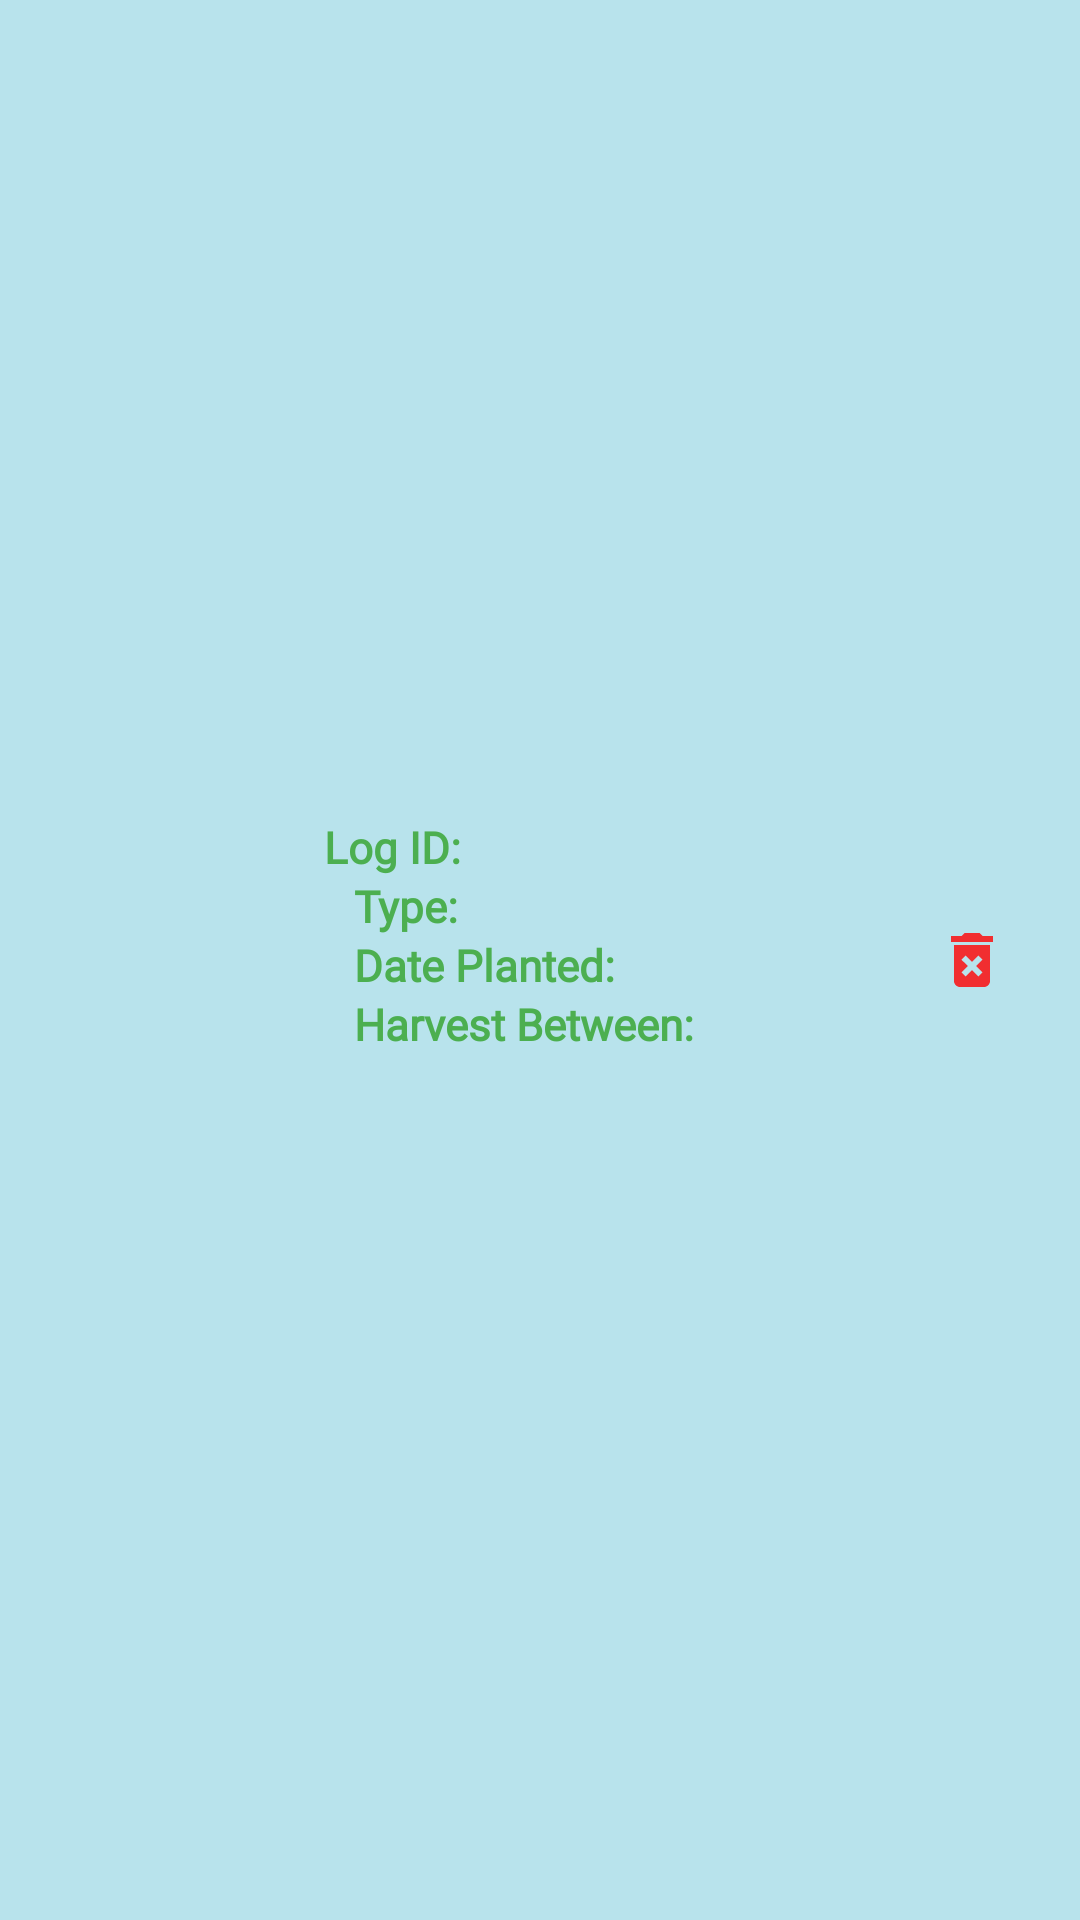

Point at icon controls on the screen. Image size 1080×1920, points as (x=x, y=y).
trashcan: (x=972, y=960)
